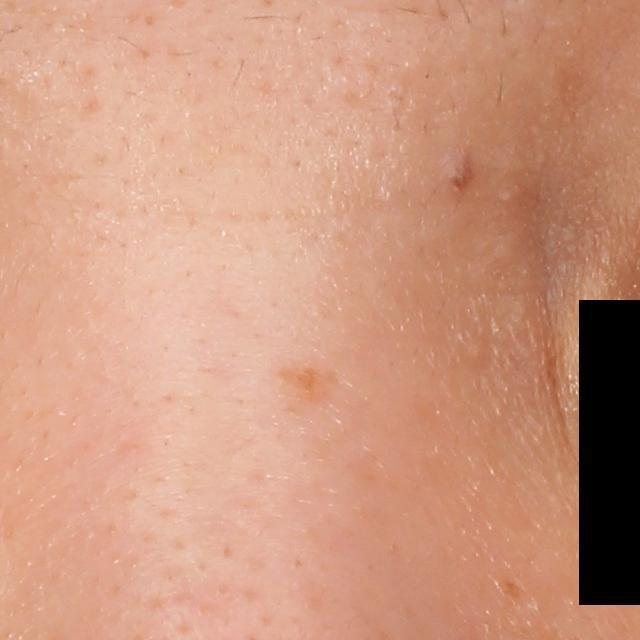comedo: (457, 341, 490, 371)
